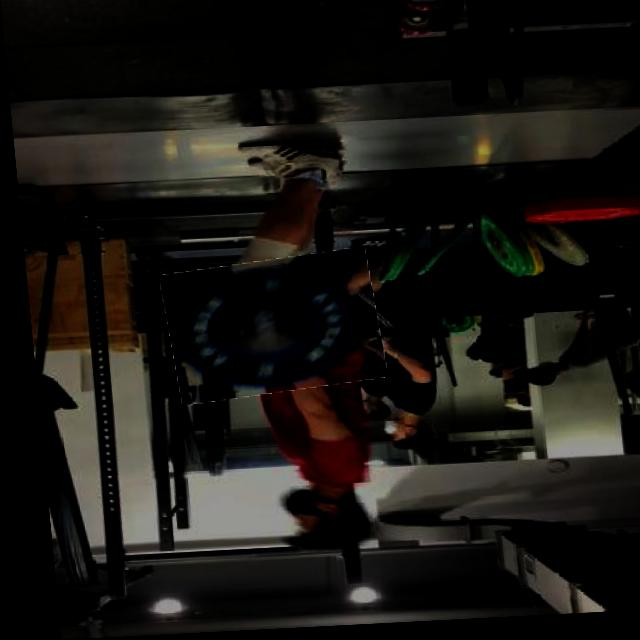barbell: (156, 256, 379, 404)
